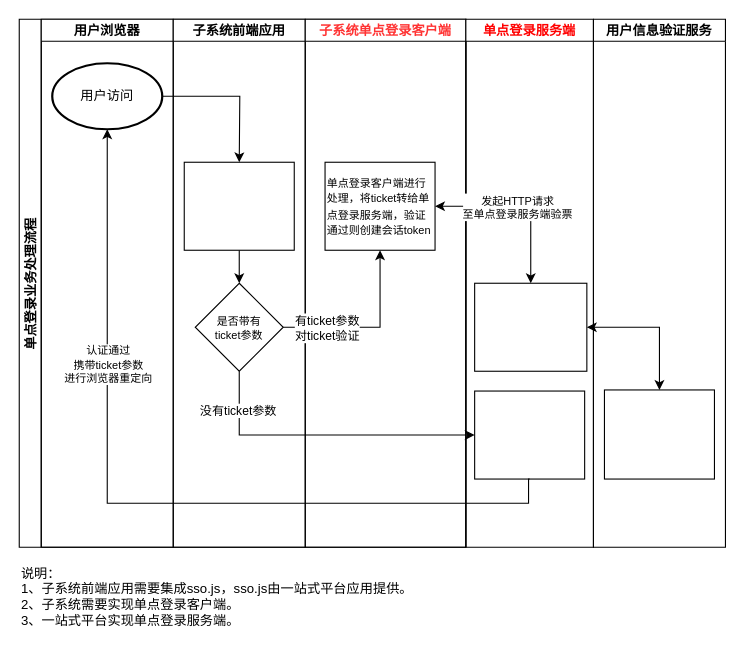
Image size: 745x655. Some labels were removed from this diagram. Here are the shapes that lost their labels. From the top down, the centre of each, then its label:
At point 238,205: "加载sso.js 1、如果有token则认为完成认证，持有会话； 2、判断请求地址是否带有ticket参数".
At point 530,326: "验证客户端发送的ticket与服务端是否一致，一致则登录成功".
At point 529,434: "产生用户新信息和ticket的映射对".
At point 658,434: "发起用户认证 信息查询".
